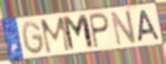A: (137, 9, 162, 43)
G: (21, 20, 46, 56)
M: (61, 13, 96, 53), (39, 15, 73, 55)
N: (110, 8, 138, 47)
P: (87, 11, 111, 49)
